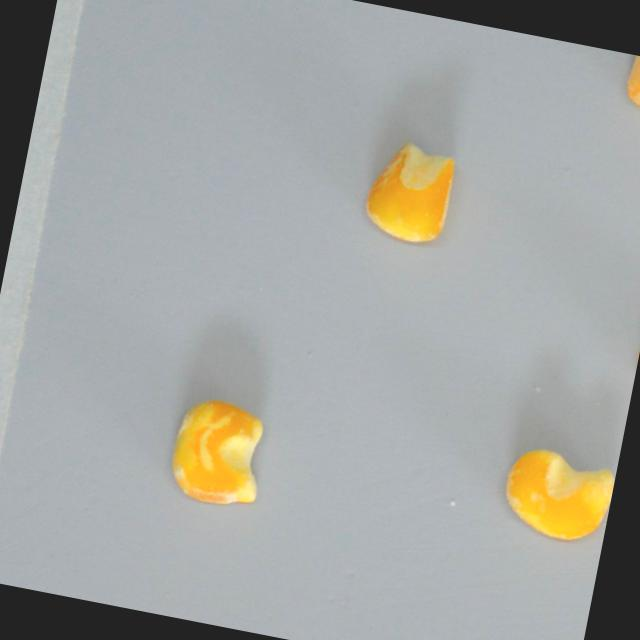dañado: (350, 126, 470, 253)
pelicula: (157, 390, 275, 516), (491, 438, 619, 550), (611, 53, 640, 125)
